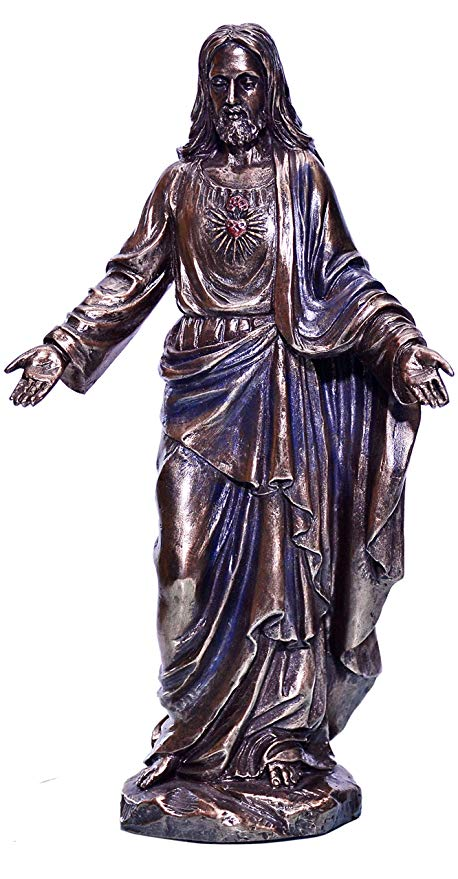person-like: (1, 19, 455, 849)
